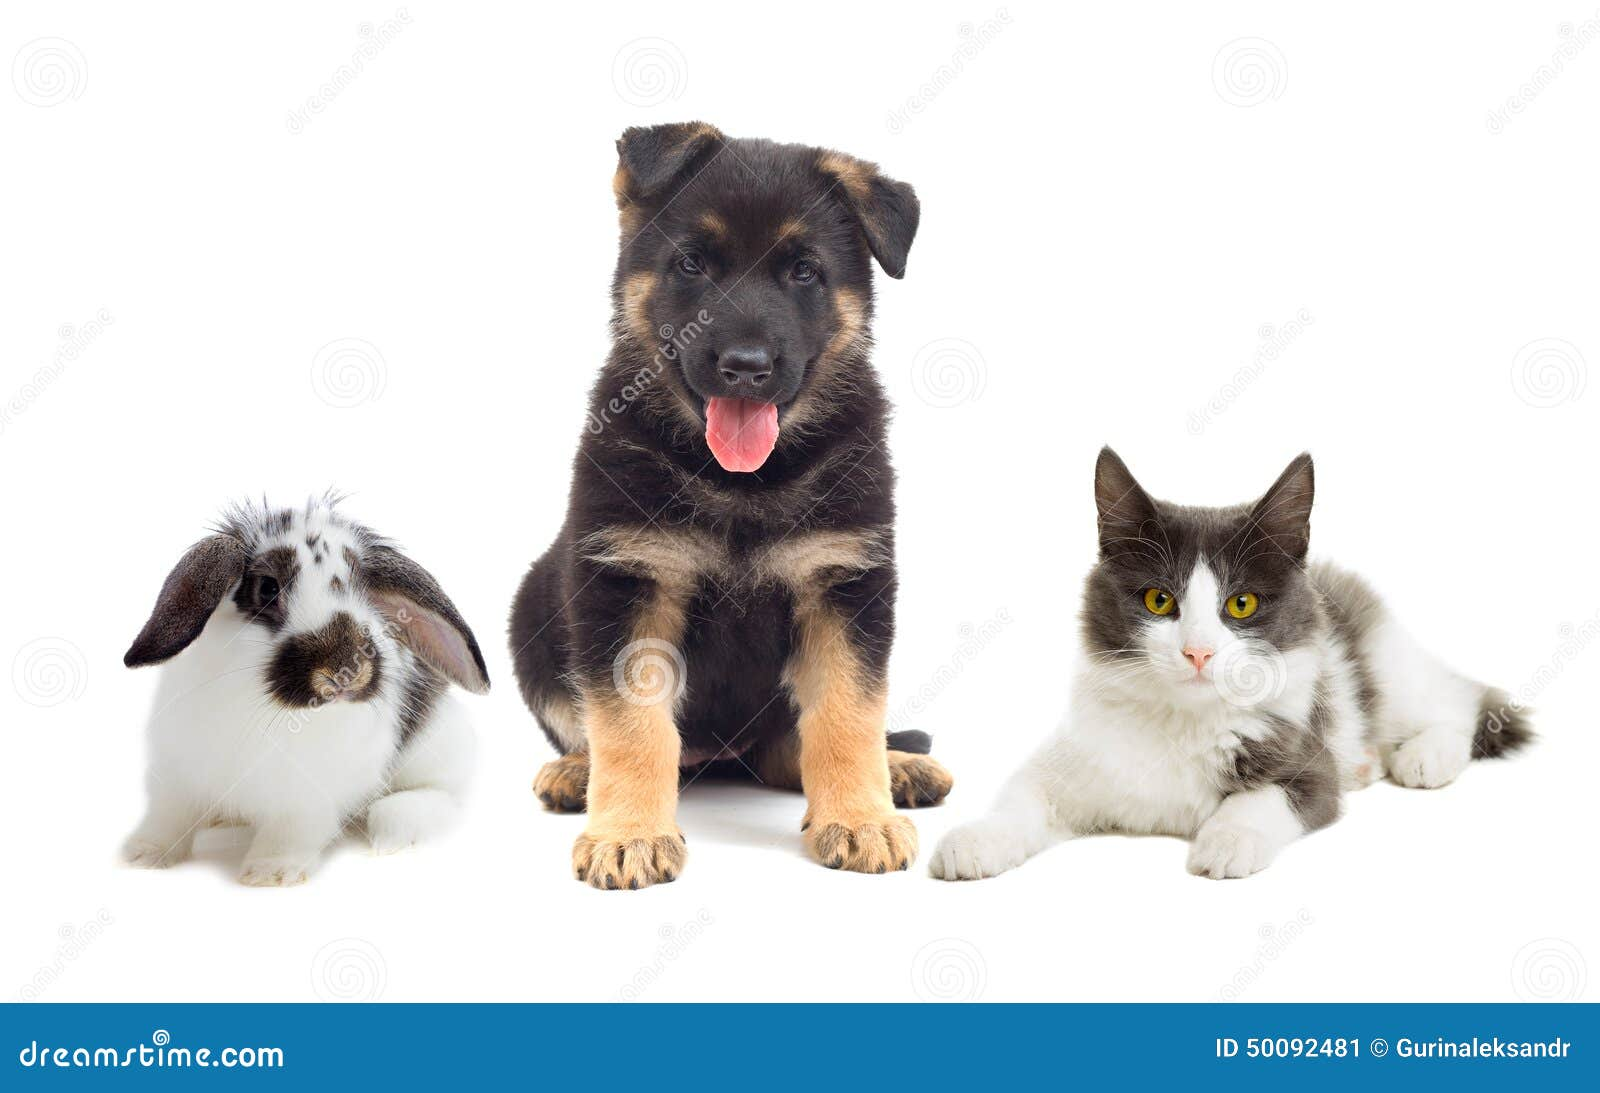cat: (965, 432, 1528, 853)
dog: (573, 109, 911, 892)
rabbit: (109, 488, 485, 892)
